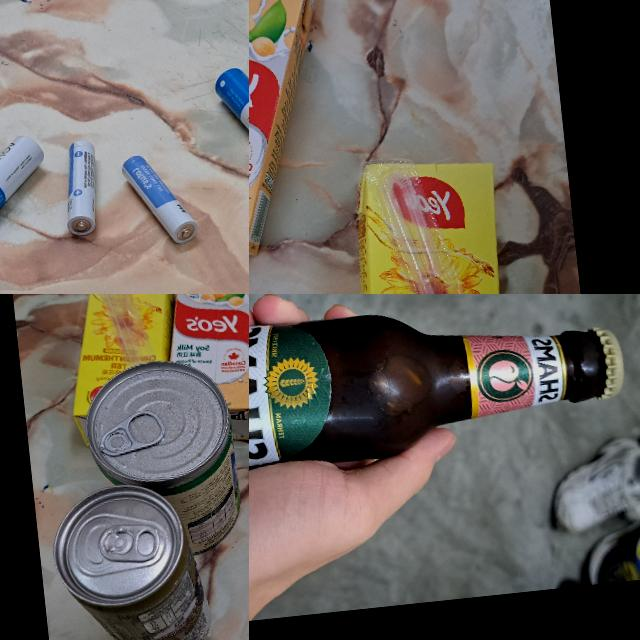aba de lata: (94, 405, 168, 460), (96, 516, 168, 566)
bateria: (118, 146, 200, 252), (0, 130, 54, 245), (56, 138, 106, 239), (210, 60, 249, 172)
caixinha: (334, 150, 530, 294), (249, 0, 341, 260), (58, 294, 188, 446), (159, 294, 249, 448)
garrafa de vidro: (249, 294, 631, 492)
lata: (80, 355, 242, 564), (48, 480, 210, 640)
